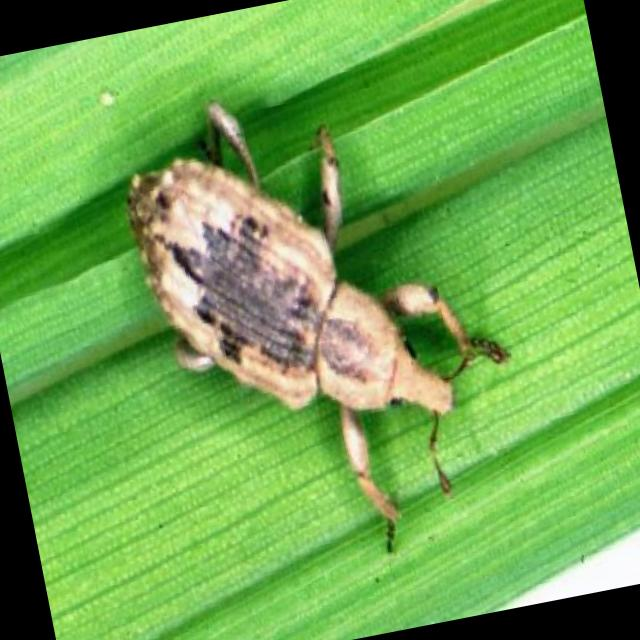rice-bug: (115, 66, 479, 516)
